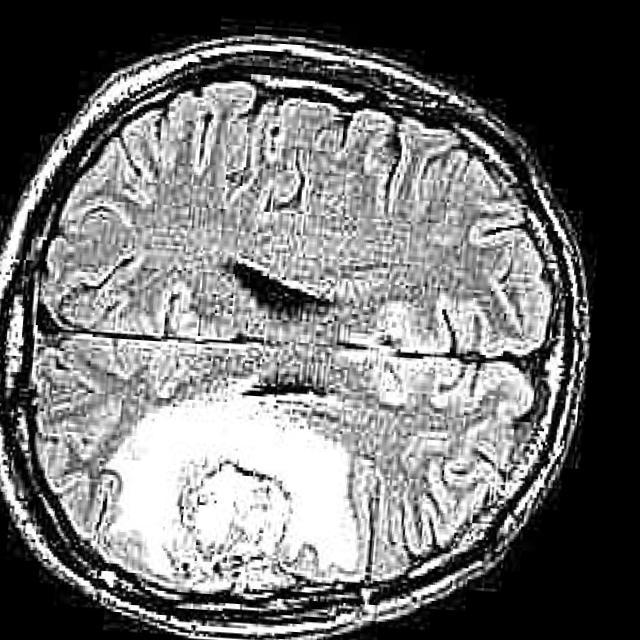Tumor: (101, 394, 366, 591)
